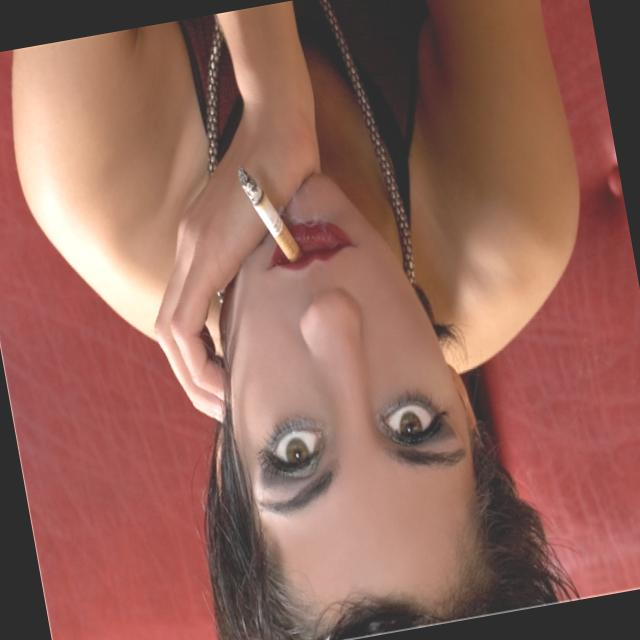smoke: (229, 156, 311, 273)
